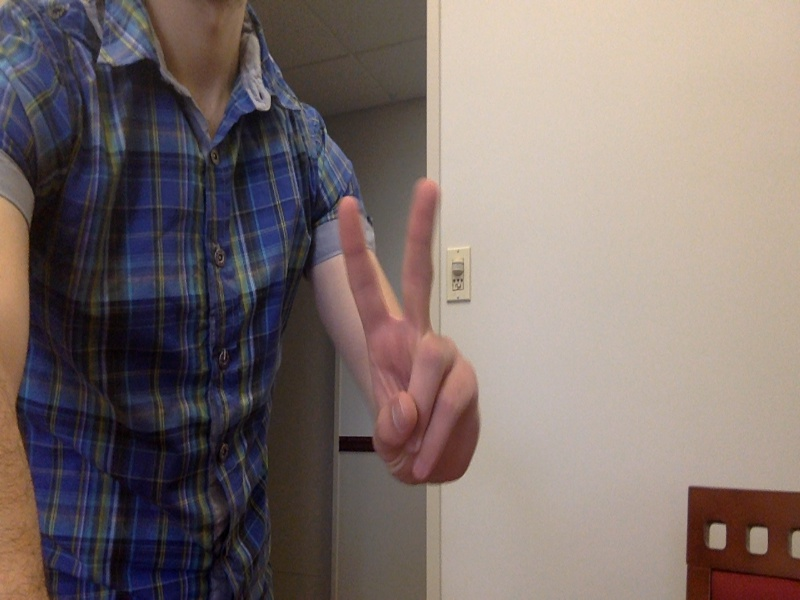2-hand: (336, 177, 483, 492)
